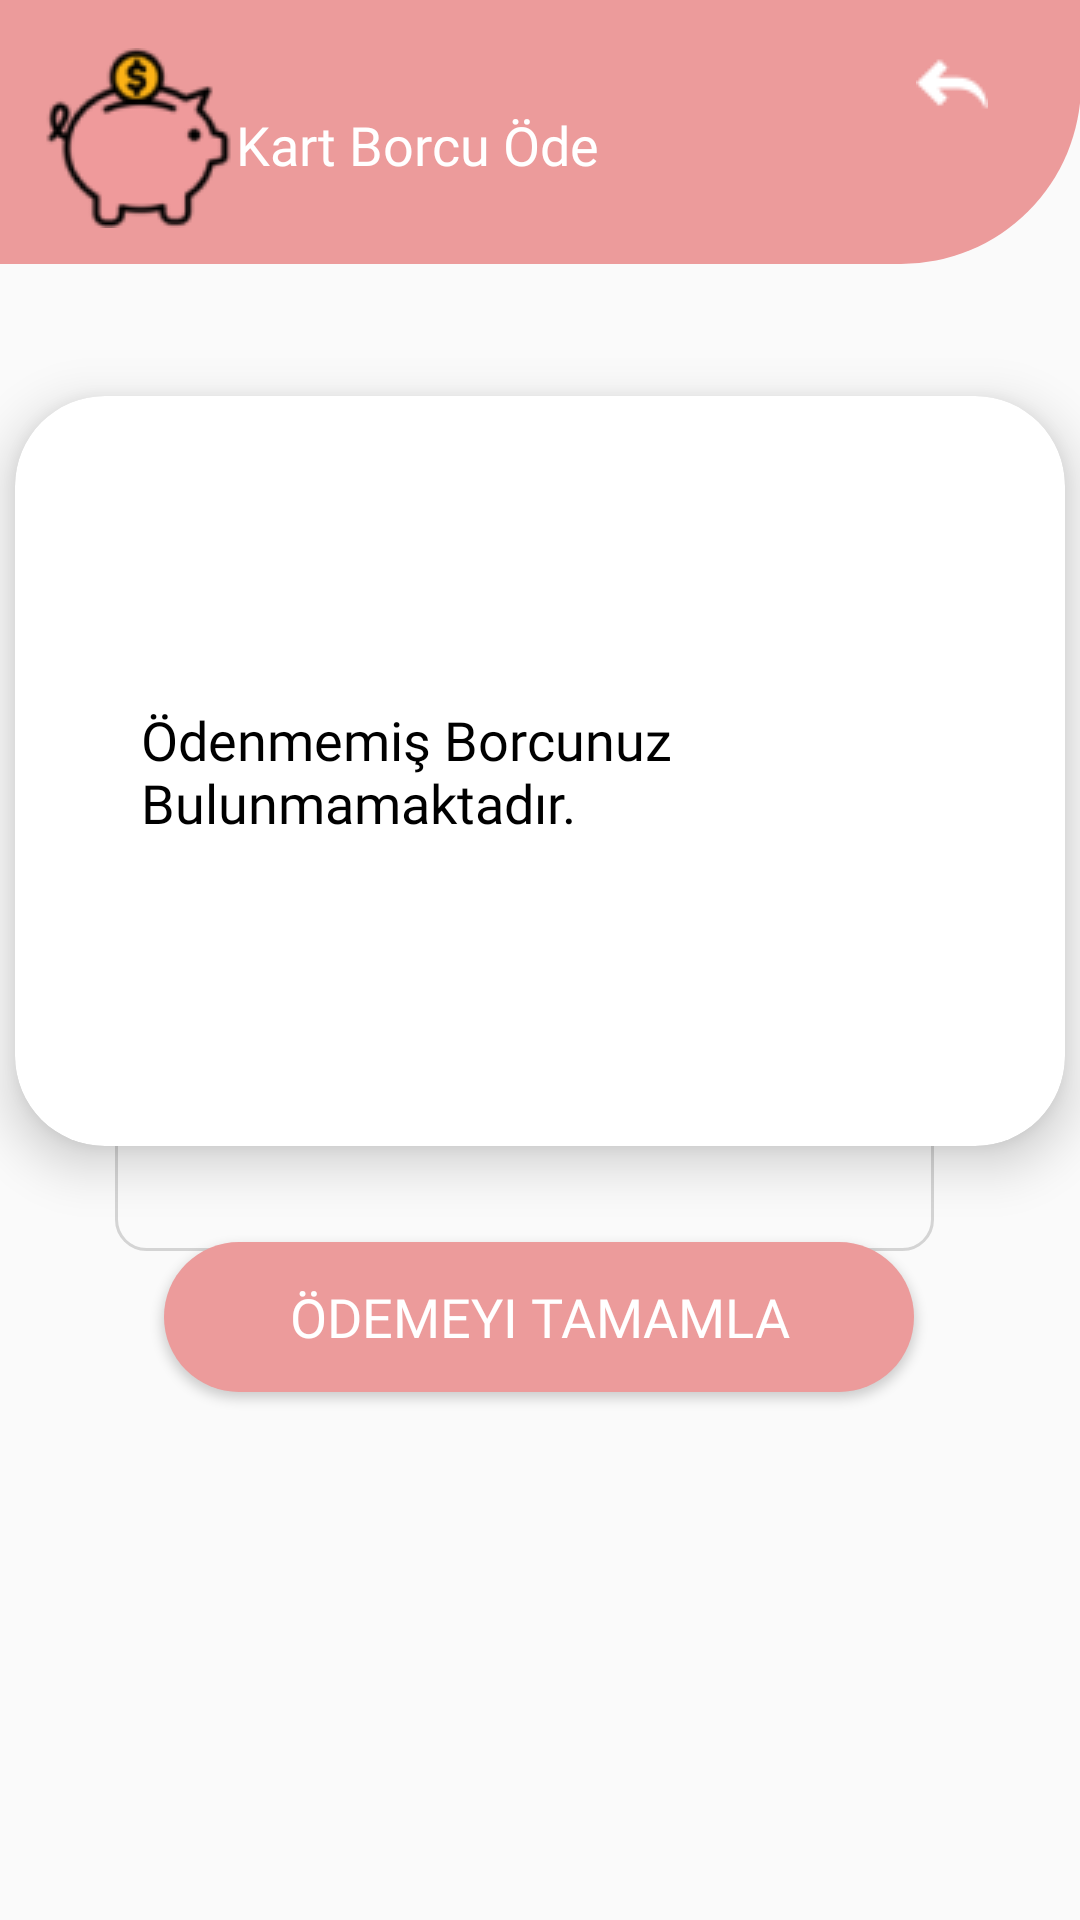

Where icons sit on this 1080*1920 app screen, as (x1, y1, x2, y2):
previous: (916, 60, 988, 108)
